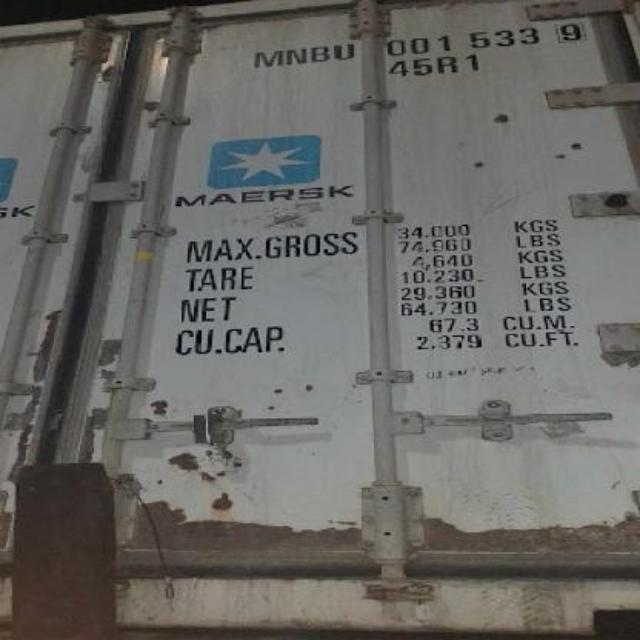0: (382, 32, 406, 58), (406, 34, 432, 56)
1: (432, 32, 456, 54)
3: (492, 26, 518, 49), (518, 24, 542, 48)
5: (466, 27, 492, 53)
9: (550, 22, 588, 42)
B: (312, 44, 334, 66)
M: (248, 45, 282, 69)
N: (284, 45, 310, 71)
U: (328, 40, 356, 64)
